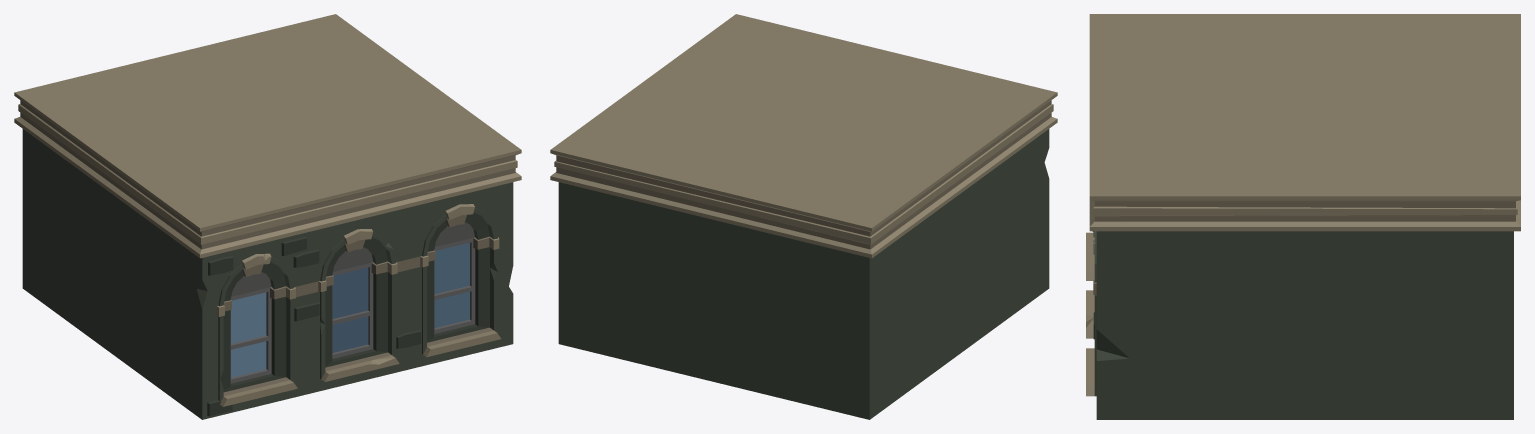
The model's file is SM_Bld_Apartment_02.fbx.
3 renders of one model, left to right at view 1: azimuth 30°, elevation 25°; view 2: azimuth 150°, elevation 25°; view 3: azimuth 270°, elevation 25°, orthographic. The views are drawn at different scales.
Visible parts, largest first — view 1: Default, window2, window3, window1; view 2: Default; view 3: Default.
Part boxes in pixels (x1=…): Default: x1=14, y1=14, x2=521, y2=419; window2: x1=332, y1=267, x2=368, y2=352; window3: x1=231, y1=292, x2=266, y2=377; window1: x1=434, y1=242, x2=469, y2=327; Default: x1=550, y1=14, x2=1057, y2=419; Default: x1=1086, y1=14, x2=1520, y2=419.
Bounding box in the file's own units: 5.17 × 3 × 5.21.
Materials: 2 (1 with a texture image).
